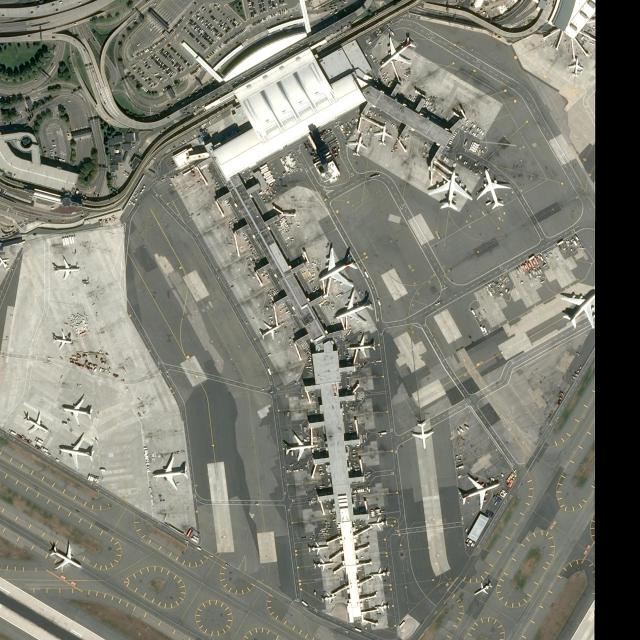1: (559, 287, 596, 330), (0, 255, 9, 269)
aircraft: (427, 166, 473, 212), (316, 244, 358, 286), (458, 472, 500, 510), (334, 289, 375, 323), (477, 167, 509, 209), (152, 454, 188, 490), (58, 433, 94, 468), (379, 32, 415, 66), (49, 540, 82, 571), (60, 394, 94, 424), (284, 432, 316, 461), (347, 333, 377, 359), (22, 409, 50, 435), (52, 256, 80, 280), (412, 420, 434, 448), (348, 133, 368, 156), (258, 320, 282, 339), (53, 328, 73, 349), (373, 124, 392, 146), (472, 580, 493, 598), (368, 513, 389, 531), (370, 565, 390, 581), (569, 56, 583, 77), (312, 556, 332, 570), (308, 537, 327, 551), (375, 598, 391, 614), (318, 589, 336, 603)
